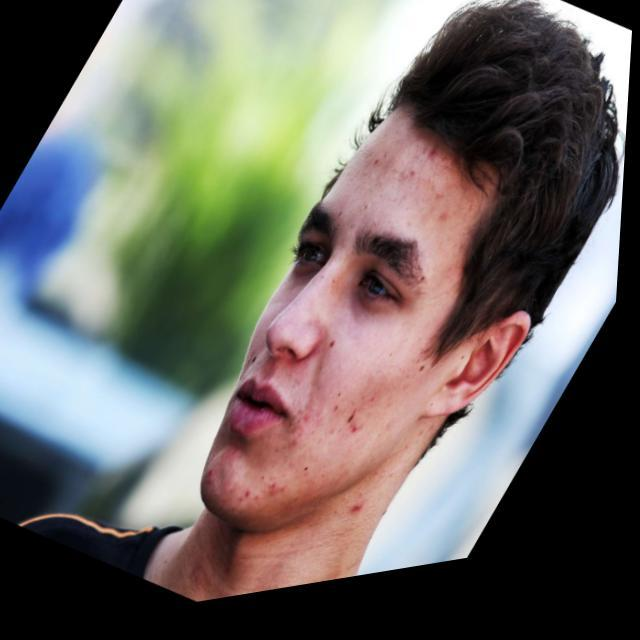Nonhelmet: (194, 1, 622, 535)
